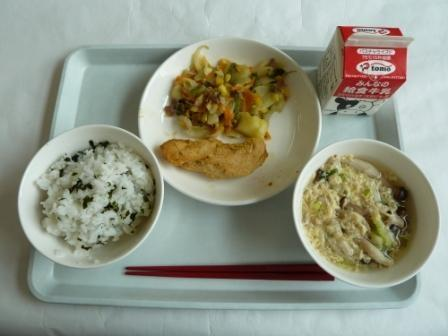Milk: (317, 18, 412, 117)
Rice: (16, 120, 154, 268)
Soups: (296, 147, 440, 281)
cooked food based on meat: (159, 125, 275, 188)
vegetable based cooked food: (159, 45, 296, 140)
